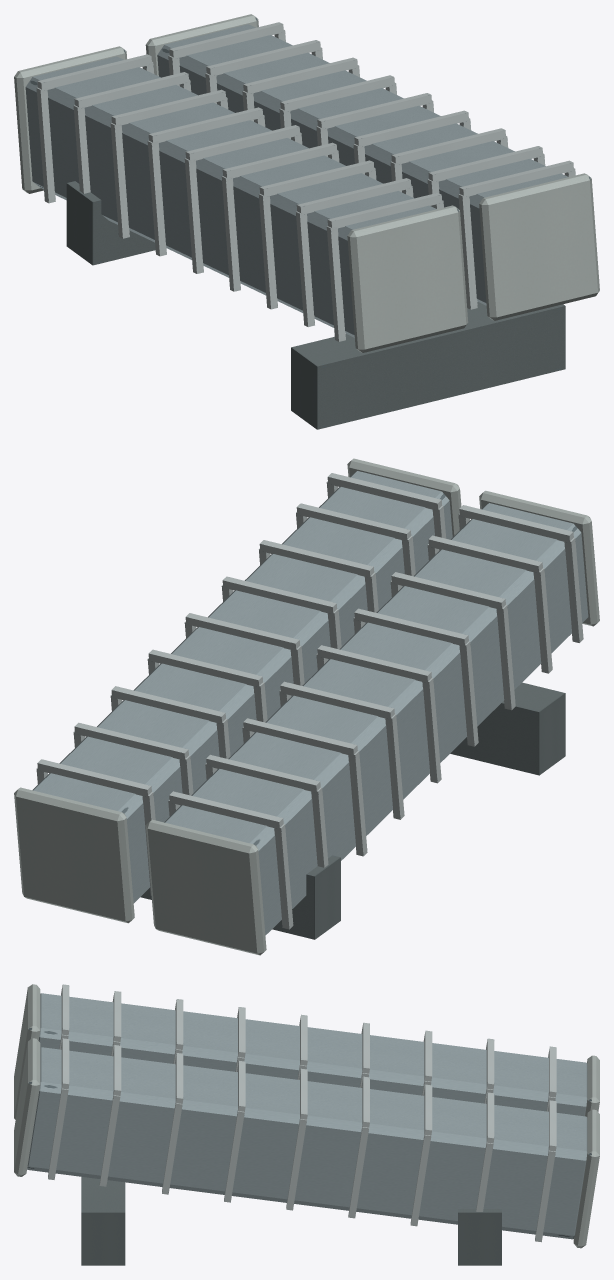
File: mount_gepard_exocet.glb
The picture shows the model from 3 angles, top to bottom: view 1: azimuth 30°, elevation 25°; view 2: azimuth 150°, elevation 25°; view 3: azimuth 270°, elevation 25°; orthographic projection. The views are drawn at different scales.
Parts seen in each view (by area): view 1: MESH_GEPARD_TEMPLATE_exocet.005; view 2: MESH_GEPARD_TEMPLATE_exocet.005; view 3: MESH_GEPARD_TEMPLATE_exocet.005.
Part boxes in pixels (bbox=[...]): MESH_GEPARD_TEMPLATE_exocet.005: bbox=[14, 14, 599, 429]; MESH_GEPARD_TEMPLATE_exocet.005: bbox=[14, 458, 599, 955]; MESH_GEPARD_TEMPLATE_exocet.005: bbox=[14, 984, 599, 1265].
Size of the model in its own units: 399 by 335 by 972.
1 material, 1 textured.
